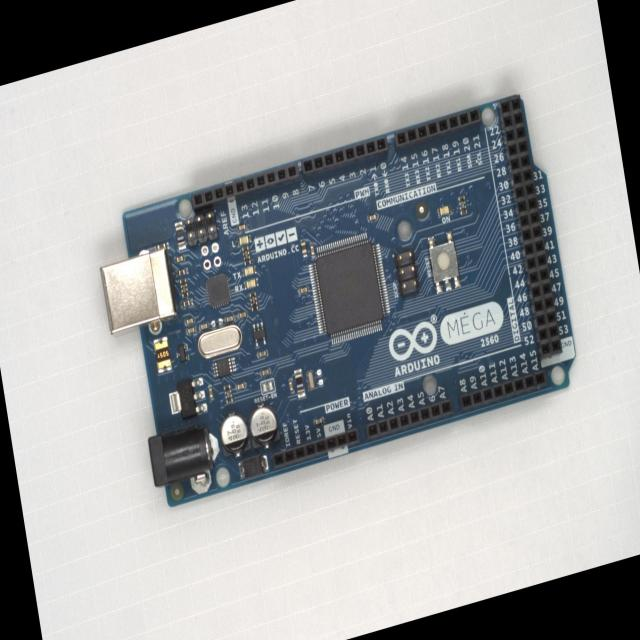Button: (427, 230, 462, 296)
Capacitor Jumper: (367, 210, 380, 224), (312, 416, 326, 428), (154, 242, 169, 253), (173, 253, 186, 265), (297, 284, 310, 295), (259, 367, 272, 378), (234, 381, 247, 392), (185, 325, 197, 336), (236, 310, 248, 321), (256, 348, 268, 359), (183, 316, 196, 326), (223, 314, 236, 324), (308, 242, 316, 258), (207, 383, 214, 401), (198, 322, 210, 332), (236, 223, 248, 233), (288, 377, 294, 394)
Clock: (195, 322, 245, 362), (306, 368, 316, 391)
Connector: (497, 96, 562, 360), (146, 418, 225, 508), (100, 247, 178, 337), (190, 163, 301, 212), (300, 134, 389, 179), (392, 109, 481, 153), (458, 370, 548, 412), (270, 428, 360, 470), (364, 400, 454, 440), (392, 248, 421, 298), (184, 210, 219, 246), (200, 240, 222, 270)
Diode: (294, 367, 306, 399), (174, 220, 186, 252)
Electrolytic Capacitor: (217, 407, 252, 461), (246, 398, 280, 453)
IC: (304, 228, 394, 349), (167, 374, 208, 423), (204, 270, 232, 312), (237, 452, 270, 482), (210, 354, 238, 380), (250, 319, 267, 349), (174, 342, 190, 364)
Led: (237, 233, 252, 247), (437, 204, 452, 218), (243, 278, 259, 290), (242, 264, 256, 277)
Pads: (259, 376, 276, 396), (315, 366, 324, 387), (210, 316, 223, 328)
Resistor: (300, 238, 307, 258), (175, 267, 188, 277), (180, 298, 192, 308)
Resistor Network: (241, 244, 252, 267), (222, 384, 234, 405), (457, 194, 468, 216), (178, 277, 189, 298), (249, 290, 259, 312)
